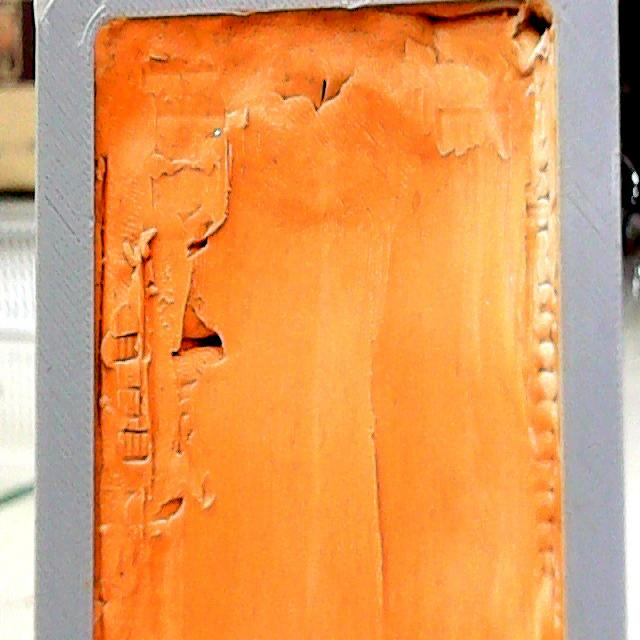block: (27, 3, 618, 634)
